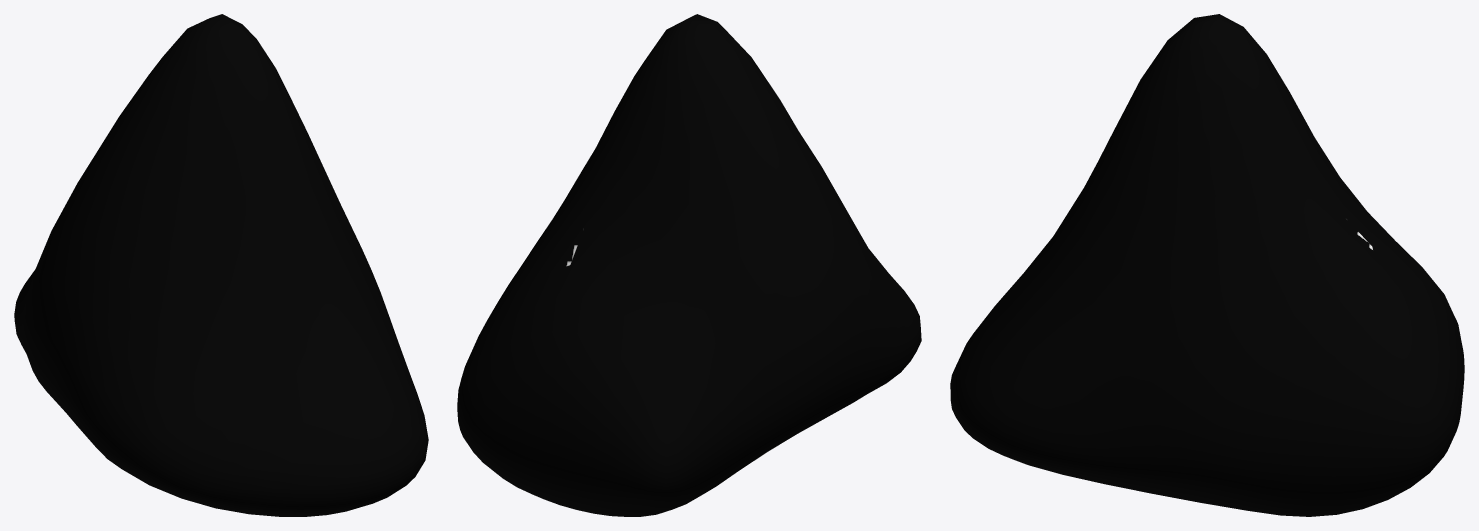
File: ROCK3.fbx
3 views of the same model, side by side, from view 1: azimuth 30°, elevation 25°; view 2: azimuth 150°, elevation 25°; view 3: azimuth 270°, elevation 25° (orthographic). The views are drawn at different scales.
Visible parts, largest first — view 1: ROCK3; view 2: ROCK3; view 3: ROCK3.
Part boxes in pixels (box(x1,y1,x2,y2)): ROCK3: box(14, 14, 428, 516); ROCK3: box(457, 14, 921, 516); ROCK3: box(950, 14, 1464, 516).
Bounding box in the file's own units: 1.7 × 2.27 × 2.27.
